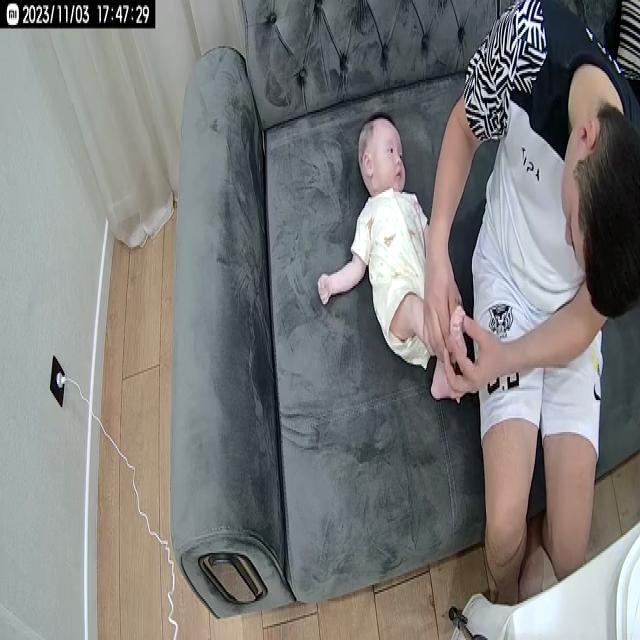baby: (316, 114, 466, 407)
